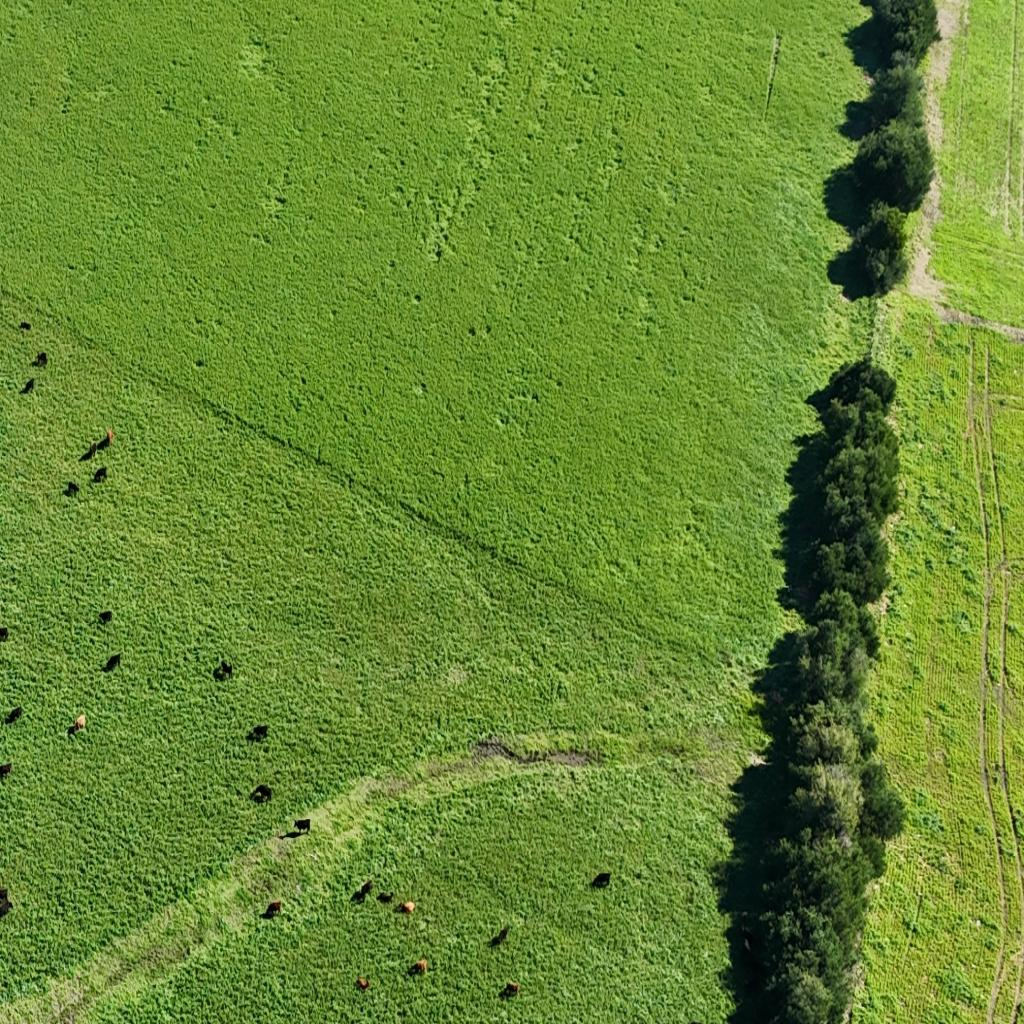cow: (251, 784, 272, 804), (0, 888, 14, 918), (489, 926, 509, 946), (354, 879, 372, 901), (68, 714, 86, 736), (102, 653, 122, 672), (591, 871, 611, 889), (500, 982, 520, 998), (5, 706, 22, 724), (250, 724, 268, 741), (409, 959, 428, 975), (264, 902, 282, 918), (279, 828, 304, 839), (93, 465, 108, 483), (294, 818, 310, 834), (102, 432, 113, 455), (98, 610, 113, 626), (21, 378, 35, 395), (399, 900, 416, 914), (214, 661, 227, 679), (33, 351, 47, 367), (66, 480, 80, 496), (376, 892, 394, 904), (86, 442, 98, 460), (0, 762, 13, 778), (356, 976, 370, 990), (225, 659, 235, 676), (351, 888, 363, 902), (0, 626, 9, 642), (106, 428, 114, 444), (20, 321, 30, 331)
